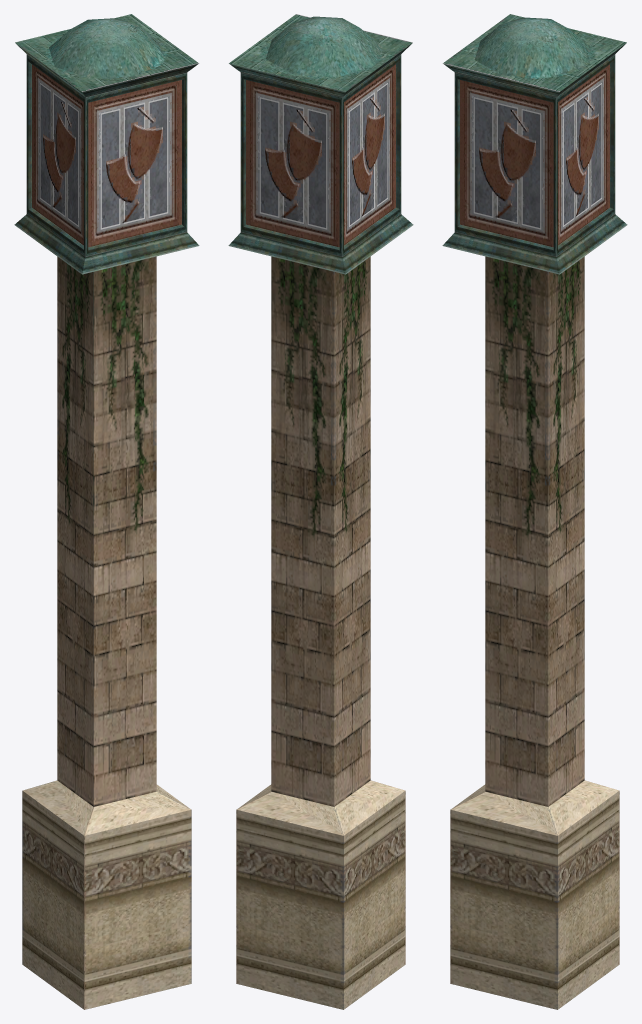
File: thm_sign_nboo_standing_l0.fbx
3 views of the same model, side by side, from view 1: azimuth 30°, elevation 25°; view 2: azimuth 150°, elevation 25°; view 3: azimuth 330°, elevation 25° (orthographic).
Parts seen in each view (by area): view 1: mesh_node; view 2: mesh_node; view 3: mesh_node.
Part boxes in pixels (left/top/right/bottom): mesh_node: left=14, top=14, right=199, bottom=1009; mesh_node: left=228, top=14, right=413, bottom=1009; mesh_node: left=442, top=14, right=627, bottom=1009.
Bounding box in the file's own units: 0.6558 × 5.09 × 0.6558.
